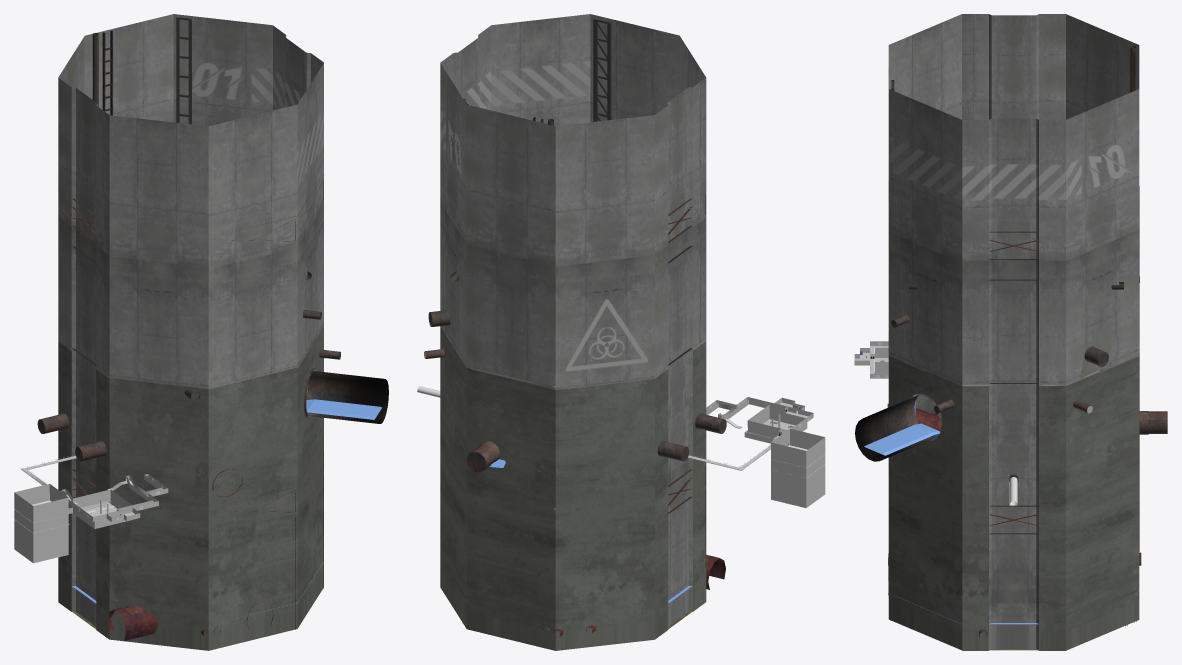
The model's file is 2S_All_2.fbx.
3 renders of one model, left to right at view 1: azimuth 30°, elevation 25°; view 2: azimuth 150°, elevation 25°; view 3: azimuth 270°, elevation 25°, orthographic.
Visible parts, largest first — view 1: 2S_P_Wall (×2), 2S_P_WallPipe (×2), 2S_Convey, 2S_P_Ladder (×2), 2S_P_Pipe, 2S_P_WallFrame, 2S_Water, 2S_1F_Wall, 2S_2F_Wall; view 2: 2S_P_Wall (×2), 2S_Convey, 2S_P_WallPipe (×2), 2S_P_Ladder, 2S_1F_Wall, 2S_P_WallFrame, 2S_2F_Wall; view 3: 2S_P_Wall (×2), 2S_P_WallPipe (×2), 2S_P_WallFrame, 2S_Water.
Part boxes in pixels (bbox=[...]): 2S_P_Wall (×2): bbox=[58, 14, 323, 650]; 2S_P_WallPipe (×2): bbox=[37, 310, 388, 461]; 2S_Convey: bbox=[14, 483, 68, 563]; 2S_P_Ladder (×2): bbox=[102, 17, 191, 124]; 2S_P_Pipe: bbox=[108, 468, 273, 640]; 2S_P_WallFrame: bbox=[60, 175, 323, 629]; 2S_Water: bbox=[306, 399, 381, 419]; 2S_1F_Wall: bbox=[73, 489, 131, 528]; 2S_2F_Wall: bbox=[61, 475, 161, 521]; 2S_P_Wall (×2): bbox=[440, 14, 706, 650]; 2S_Convey: bbox=[771, 428, 825, 507]; 2S_P_WallPipe (×2): bbox=[424, 310, 726, 472]; 2S_P_Ladder: bbox=[593, 18, 611, 121]; 2S_1F_Wall: bbox=[747, 404, 807, 436]; 2S_P_WallFrame: bbox=[665, 194, 705, 567]; 2S_2F_Wall: bbox=[706, 399, 813, 433]; 2S_P_Wall (×2): bbox=[888, 14, 1139, 650]; 2S_P_WallPipe (×2): bbox=[855, 314, 1167, 461]; 2S_P_WallFrame: bbox=[888, 180, 1038, 620]; 2S_Water: bbox=[864, 423, 940, 455].
Size of the model in its own units: 621 by 871 by 463.
